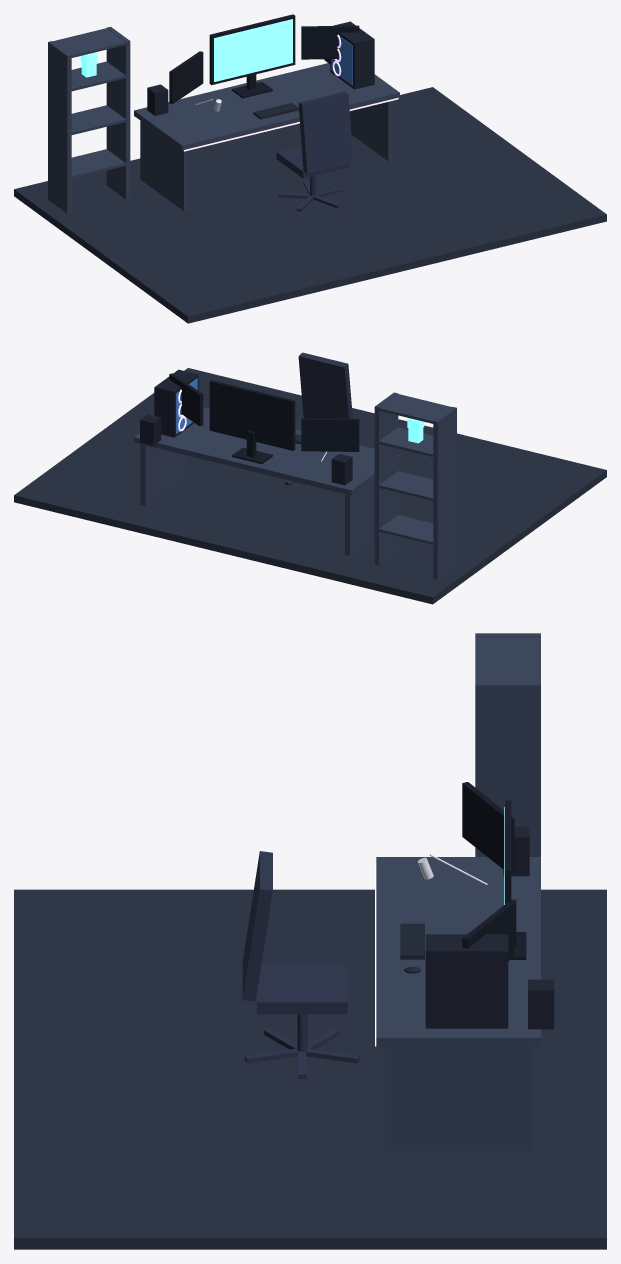
The model's file is oficina-do-harle.glb.
3 renders of one model, top to bottom at view 1: azimuth 30°, elevation 25°; view 2: azimuth 150°, elevation 25°; view 3: azimuth 270°, elevation 25°, orthographic. The views are drawn at different scales.
Visible parts, largest first — view 1: Piso, Mesa, Estante, Cadeira, Tela central, Monitores laterais, Monitor central, Gabinete, Caixas de som, Vidro do gabinete; view 2: Piso, Estante, Mesa, Monitor central, Cadeira, Monitores laterais, Gabinete, Caixas de som, Harle Bot de enfeite; view 3: Piso, Mesa, Estante, Cadeira, Gabinete, Monitores laterais, Caixas de som, Monitor central, Teclado.
Part boxes in pixels (x1,y1,x2,y2): Piso: (14,87,606,323); Mesa: (134,63,399,211); Estante: (48,26,130,213); Cadeira: (276,91,353,211); Tela central: (214,19,292,81); Monitores laterais: (169,25,359,104); Monitor central: (209,14,295,98); Gabinete: (330,21,374,89); Caixas de som: (147,59,330,115); Vidro do gabinete: (331,36,352,85); Piso: (14,368,606,604); Estante: (374,392,456,579); Mesa: (134,407,399,555); Monitor central: (209,380,295,464); Cadeira: (285,352,352,485); Monitores laterais: (169,373,359,451); Gabinete: (154,369,198,437); Caixas de som: (140,414,352,485); Harle Bot de enfeite: (407,418,424,443); Piso: (14,889,606,1249); Mesa: (376,857,540,1150); Estante: (475,633,540,856); Cadeira: (242,851,359,1078); Gabinete: (425,934,508,1028); Monitores laterais: (462,782,514,960); Caixas de som: (503,826,554,1029); Monitor central: (505,800,526,959); Teclado: (400,923,424,959).
Bounding box in the file's own units: 5 × 1.88 × 3.6.
